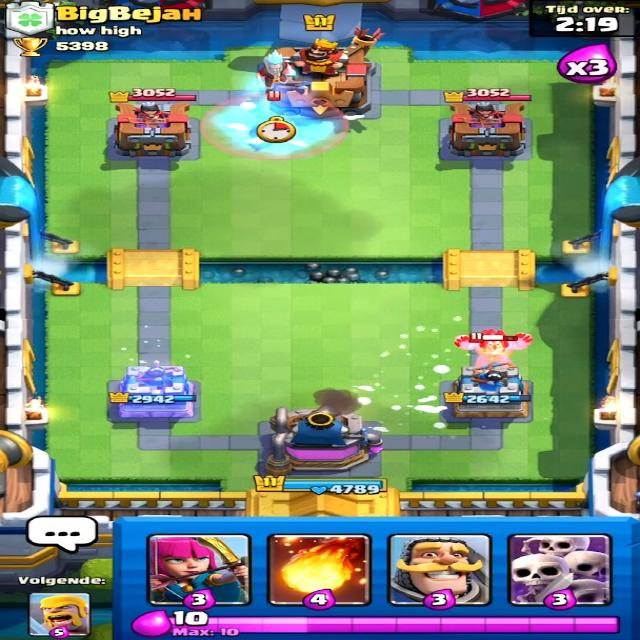Enemy_Ice_Golem_Troop: (453, 335, 528, 372)
Fireball_Card: (264, 534, 370, 606)
